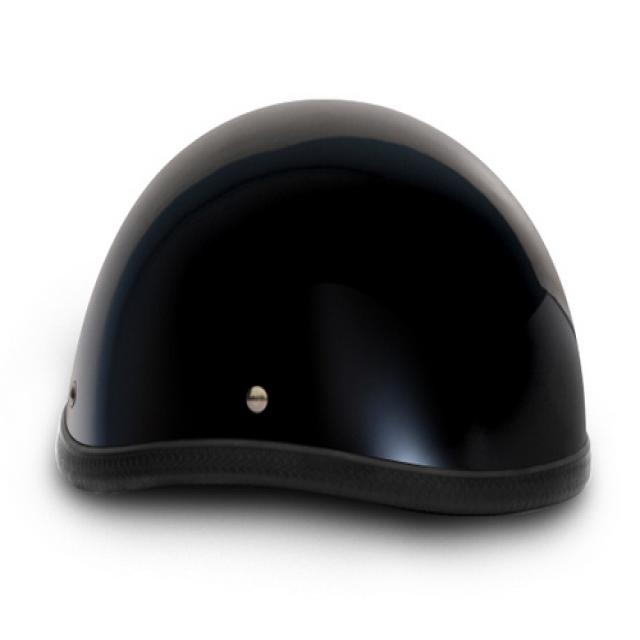illegal_helmet: (52, 89, 598, 523)
